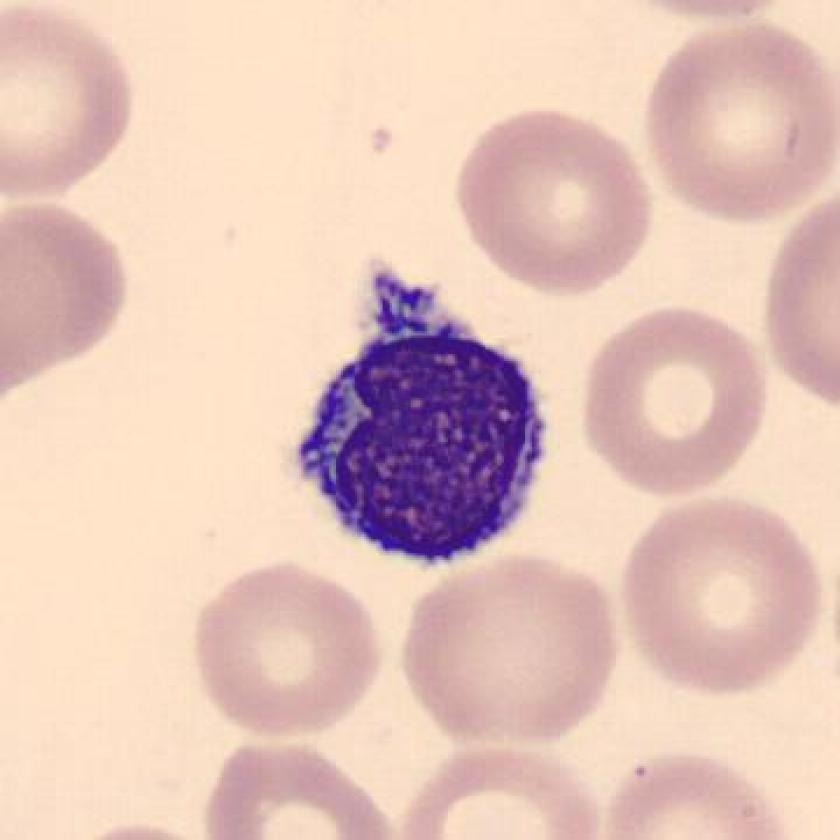lymphocyte: (269, 253, 573, 582)
